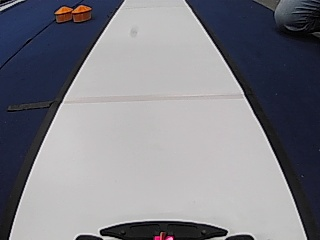granary: (72, 4, 91, 22), (53, 5, 72, 23)
